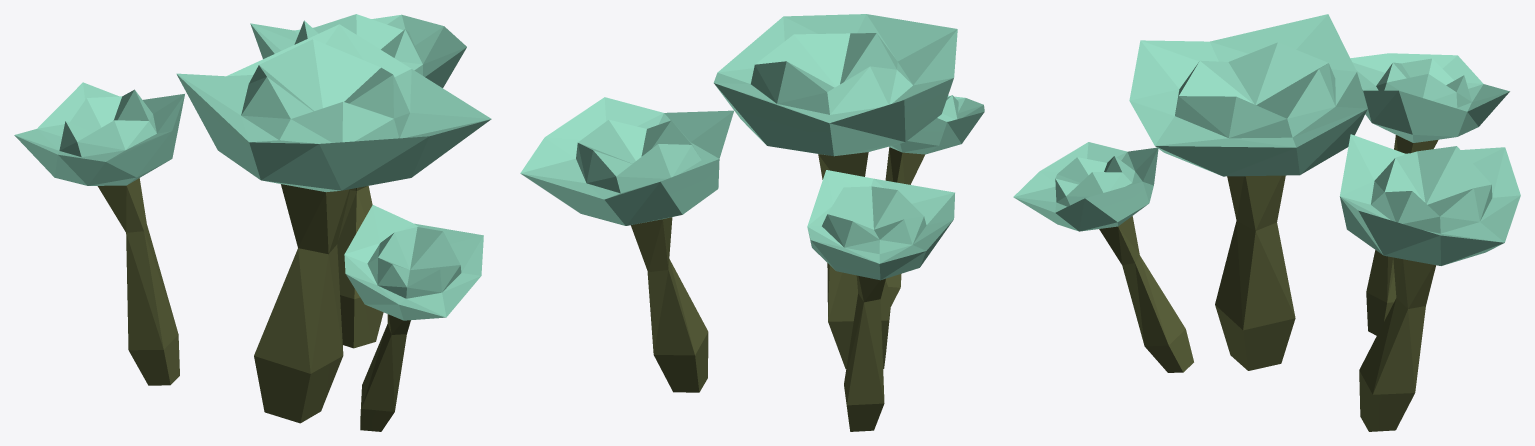
Rendered from SM_Env_Flower_04.gltf.
3 renders of one model, left to right at view 1: azimuth 30°, elevation 25°; view 2: azimuth 150°, elevation 25°; view 3: azimuth 270°, elevation 25°, orthographic. The views are drawn at different scales.
Parts seen in each view (by area): view 1: SM_Env_Flower_04; view 2: SM_Env_Flower_04; view 3: SM_Env_Flower_04.
Boxes of the visible parts, x1,y1,x2,y2 form: SM_Env_Flower_04: [14, 14, 491, 431]; SM_Env_Flower_04: [520, 14, 984, 431]; SM_Env_Flower_04: [1013, 14, 1520, 431].
Size of the model in its own units: 0.4792 by 0.3771 by 0.5346.
Materials: 1 (1 with a texture image).
